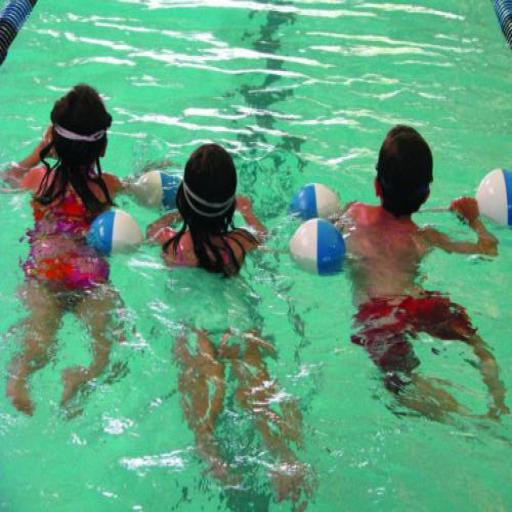swimming: (330, 121, 511, 433), (0, 82, 143, 422), (140, 141, 270, 281)
